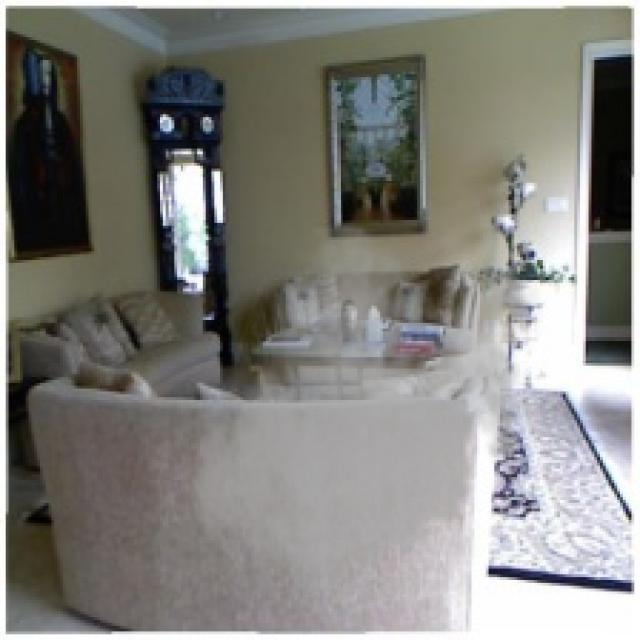Smoke: (183, 223, 543, 606)
